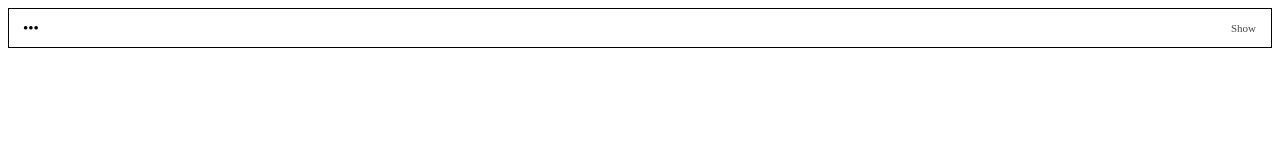
PasswordInput › toggles to type=text when Show is clicked
Click the button with aria-label "Show password" at (1243, 28), box [1223, 18, 1264, 38]
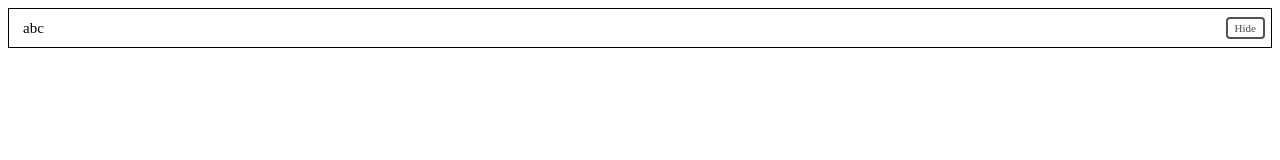
Now the field with placeholder "Password" shows its text, box [8, 8, 1272, 48]
Click the button with aria-label "Hide password" at (1245, 28), box [1227, 18, 1264, 38]
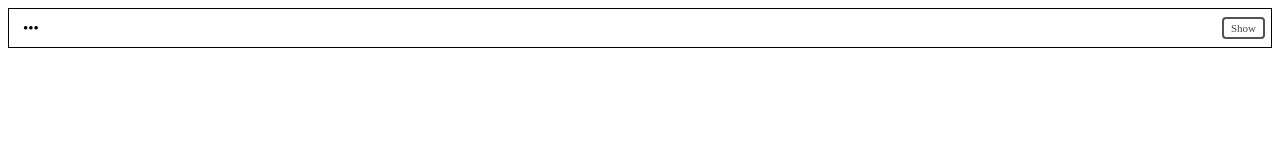
Now the password field with placeholder "Password" hides its text, box [8, 8, 1272, 48]
